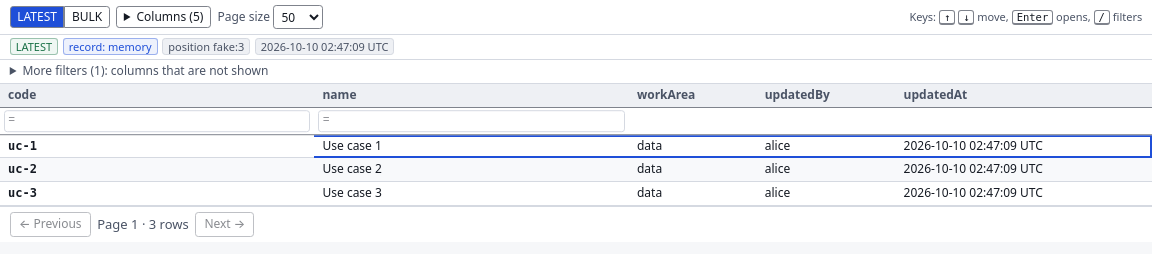
Scenario: Data (US-061) › US-061-AC5: BULK shows the replica's position and lag
Expected: the button "uc-1" is shown, [8,138,37,154]
Expected: the element with test id "freshness" shows "record: memory", [10,38,394,55]
Click the button "BULK".
click(87, 17)  # box [64,6,110,28]
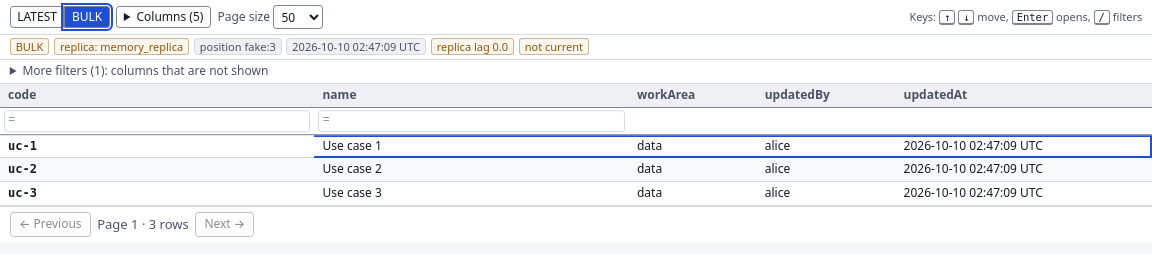
Result: the element with test id "freshness" shows "replica: memory_replica" at [10,38,589,55]
Result: the element with test id "freshness" shows "BULK" at [16,39,43,54]
Result: the element with test id "freshness" shows "replica lag 0.0" at [10,38,589,55]
